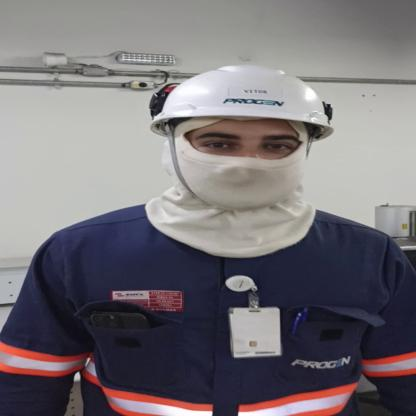Balaclava: (149, 119, 322, 254)
Capacete: (143, 63, 343, 140)
